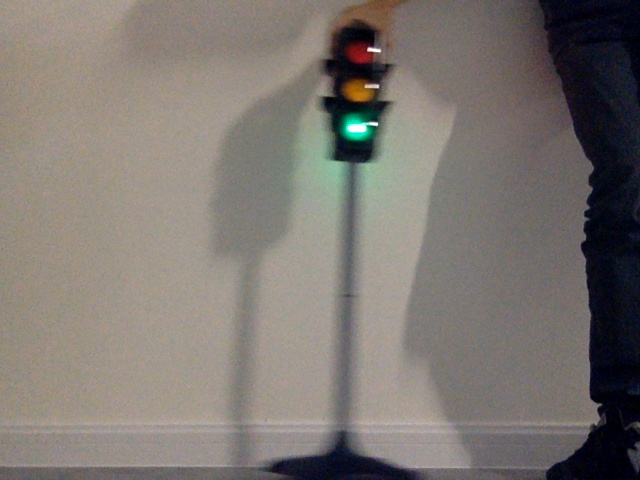green: (337, 36, 374, 143)
